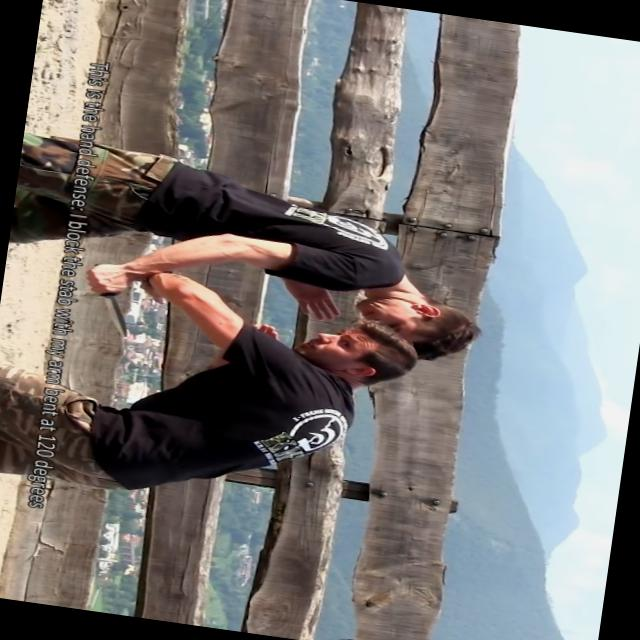knife: (77, 260, 147, 346)
